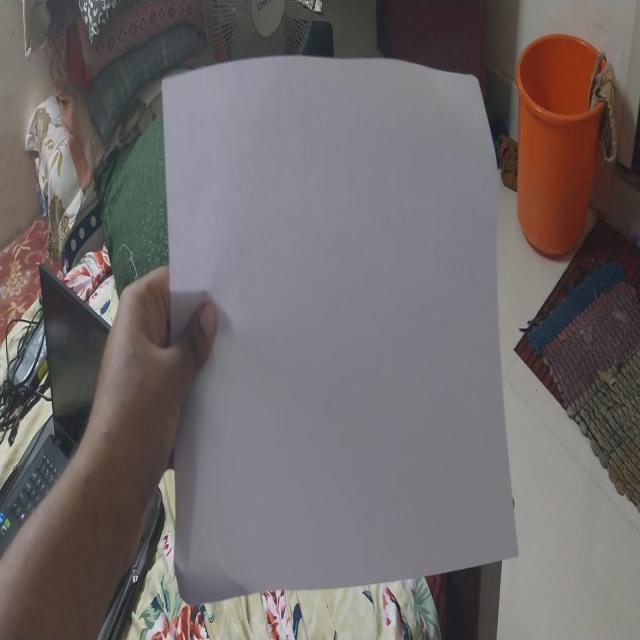Paper - Recyclable: (161, 52, 518, 604)
